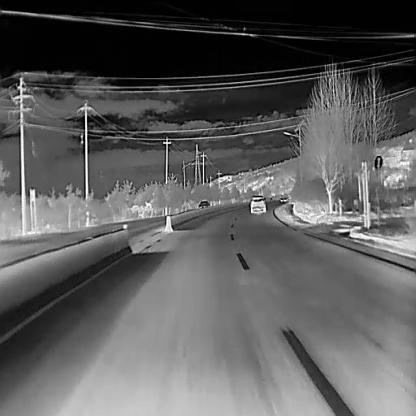car: (250, 194, 265, 213), (197, 200, 210, 208)
